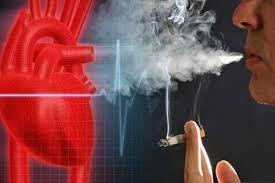smoke: (158, 128, 205, 148)
